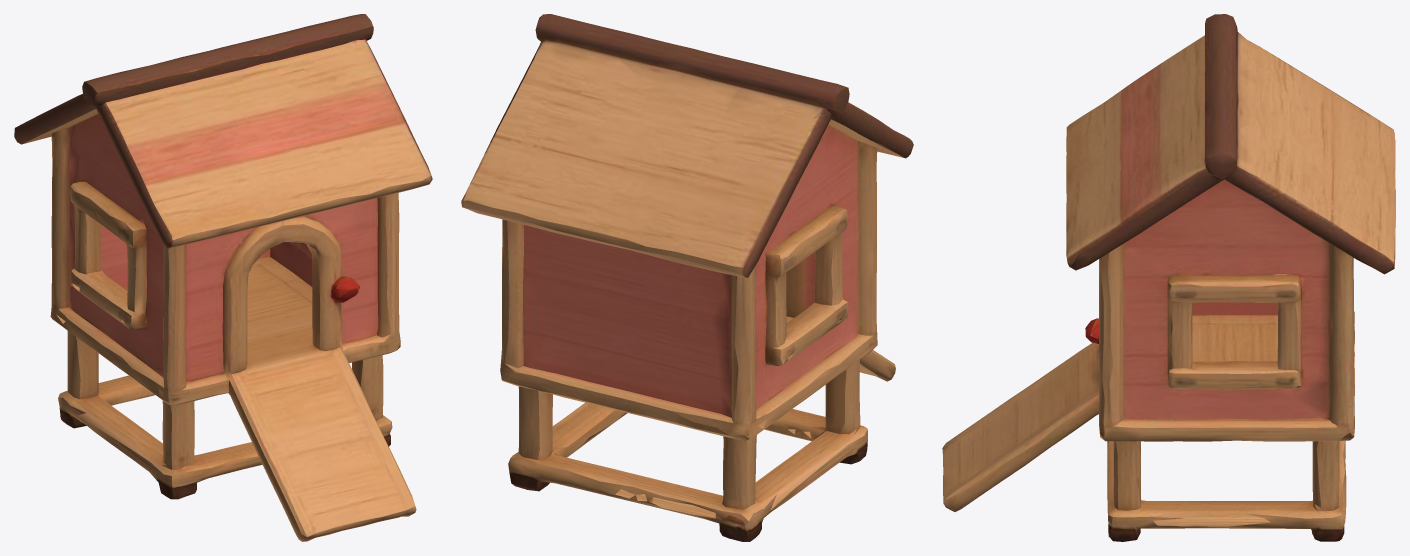
Rendered from lg-chicken-coop.glb.
3 views of the same model, side by side, from view 1: azimuth 30°, elevation 25°; view 2: azimuth 150°, elevation 25°; view 3: azimuth 270°, elevation 25° (orthographic). The views are drawn at different scales.
Visible parts, largest first — view 1: geometry_0; view 2: geometry_0; view 3: geometry_0.
Part boxes in pixels (x1,y1,x2,y2): geometry_0: (14, 14, 432, 541); geometry_0: (461, 14, 913, 541); geometry_0: (942, 14, 1395, 541).
Size of the model in its own units: 0.744 by 0.988 by 1.
Materials: 1 (1 with a texture image).
